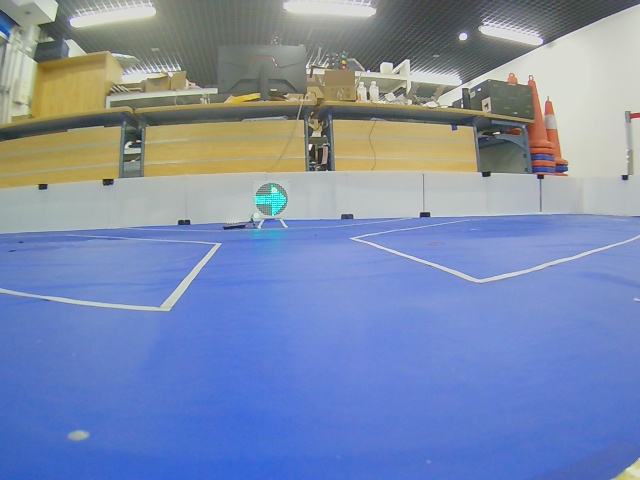right_green: (254, 183, 288, 217)
